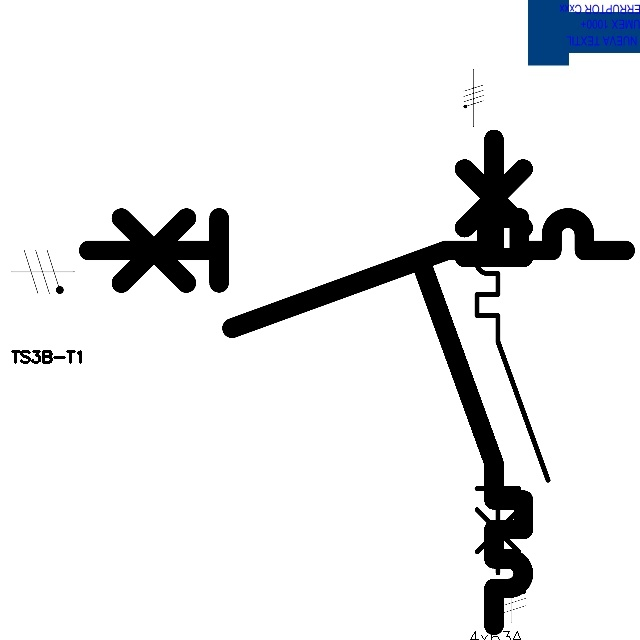interruptor_termomagnetico: (74, 204, 638, 342), (411, 126, 536, 637), (468, 217, 557, 582)
